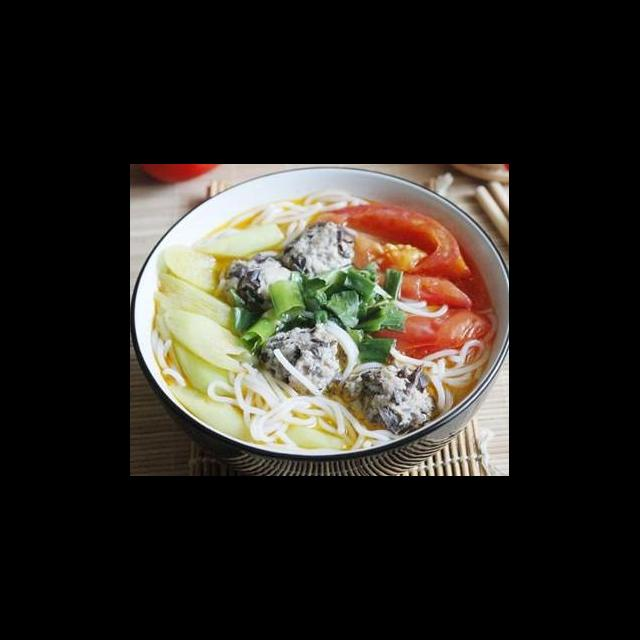bun: (206, 365, 394, 450), (228, 186, 378, 238), (404, 337, 494, 411)
vien moc: (342, 359, 442, 435), (250, 321, 344, 397), (224, 248, 304, 312), (278, 216, 360, 278)
